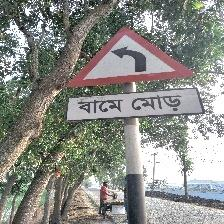Left-Turn: (63, 25, 203, 123)
